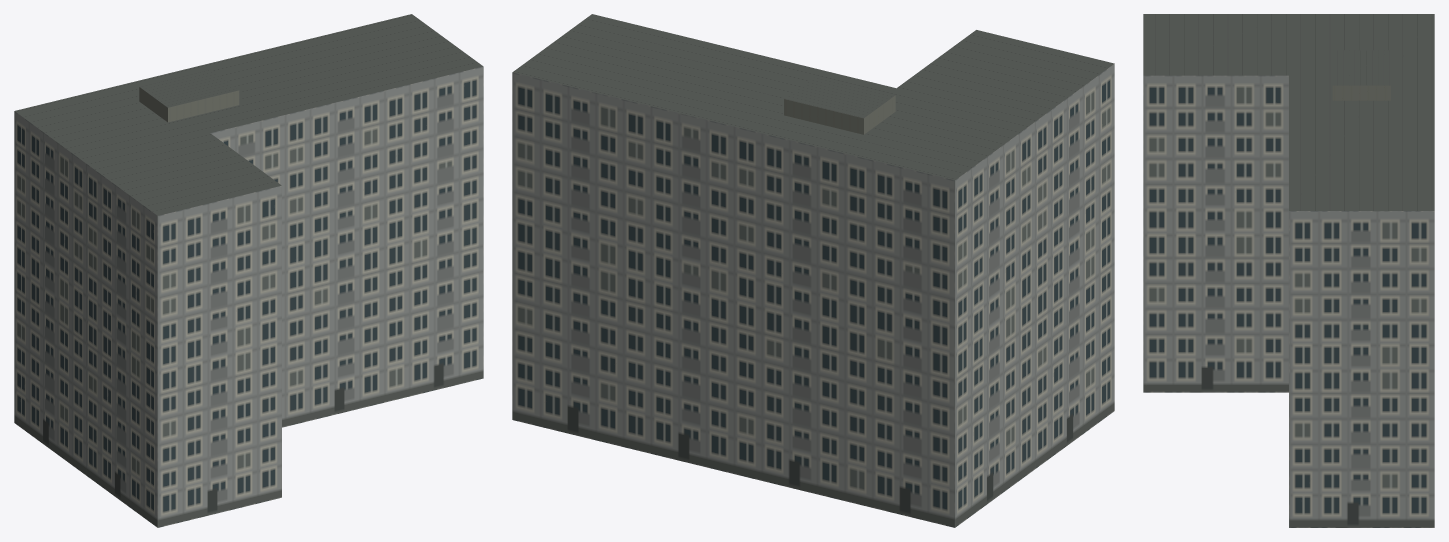
The model's file is kyiv_panel_12_02.obj.
3 renders of one model, left to right at view 1: azimuth 30°, elevation 25°; view 2: azimuth 150°, elevation 25°; view 3: azimuth 270°, elevation 25°, orthographic. The views are drawn at different scales.
Parts seen in each view (by area): view 1: kyiv_panel_12_02; view 2: kyiv_panel_12_02; view 3: kyiv_panel_12_02.
Boxes of the visible parts, x1,y1,x2,y2 form: kyiv_panel_12_02: [14, 14, 483, 527]; kyiv_panel_12_02: [512, 14, 1114, 527]; kyiv_panel_12_02: [1143, 14, 1434, 527].
Bounding box in the file's own units: 48 × 37.7 × 30.
Materials: 1 (1 with a texture image).
